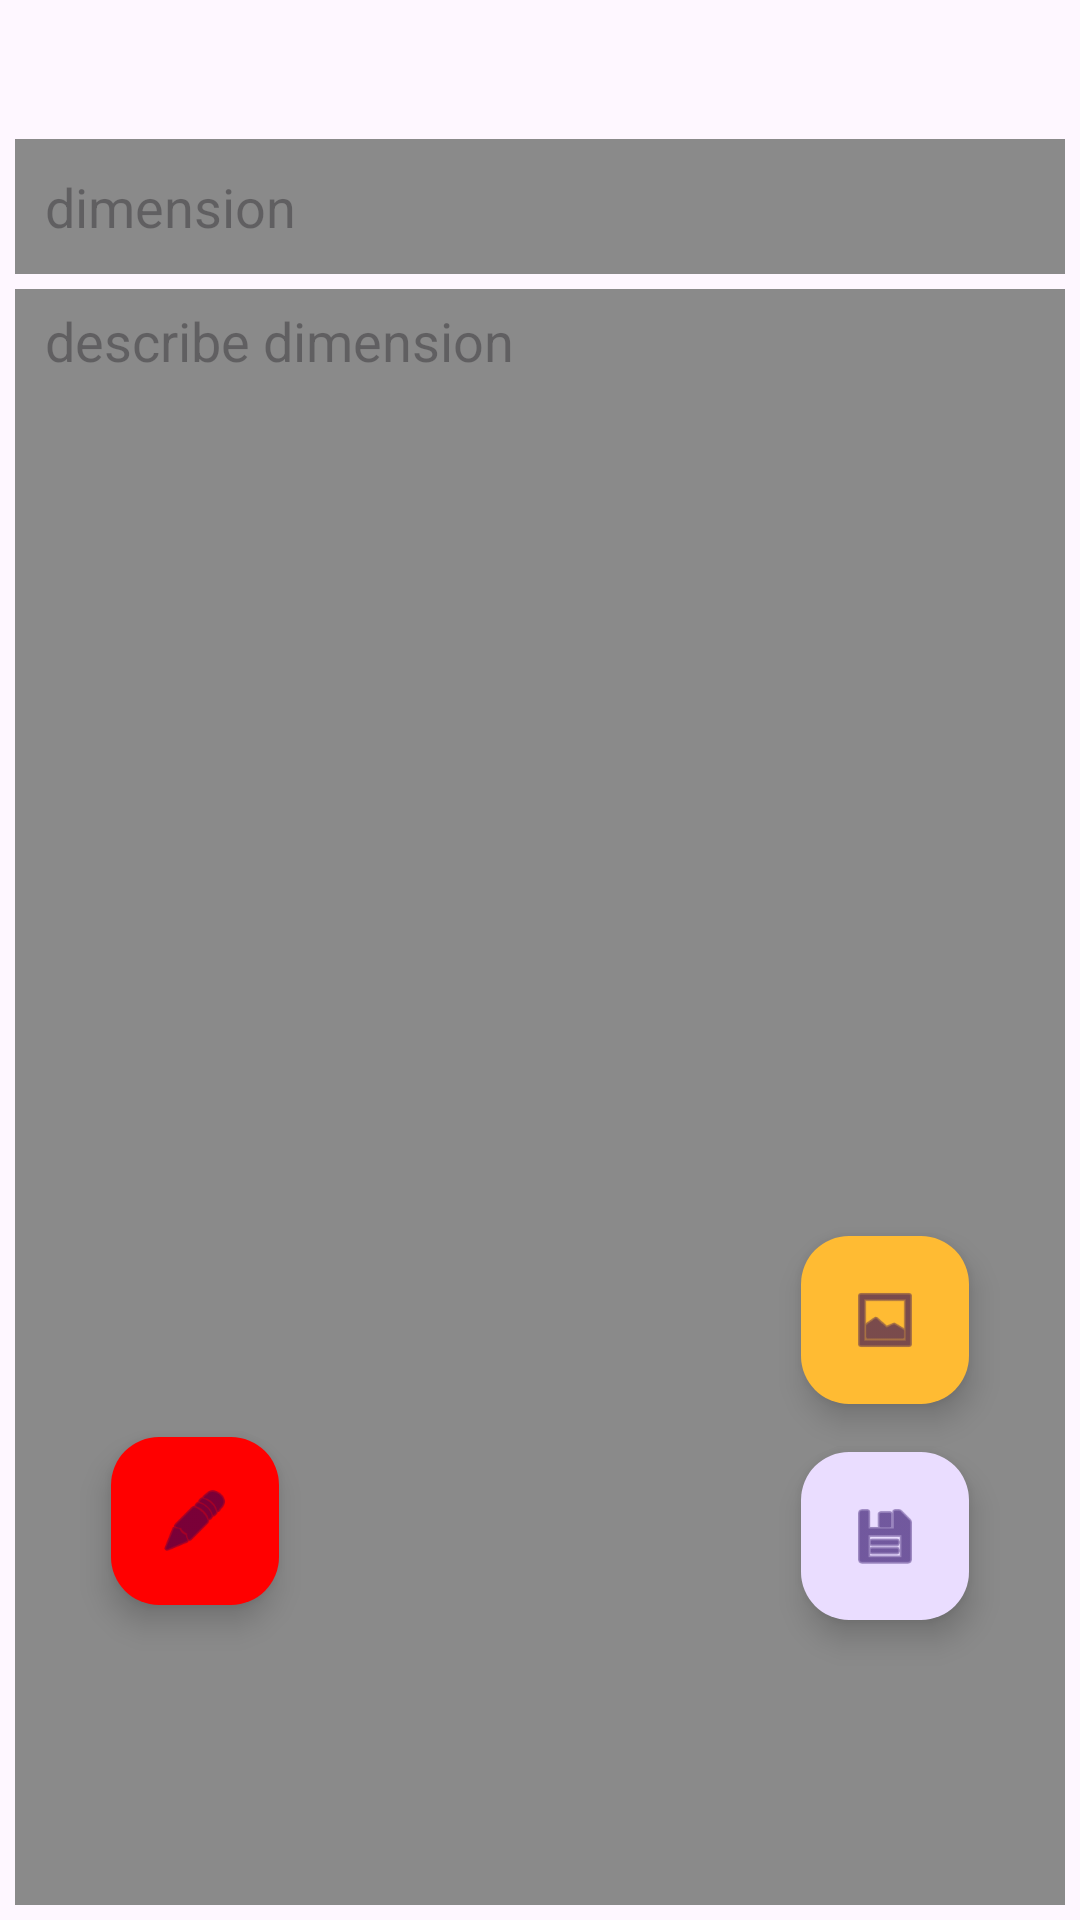

Icon click points for this 1080px x 1920px phone screenshot, format (x,y):
edit: (195,1521)
gallery: (885,1320)
save: (885,1536)
